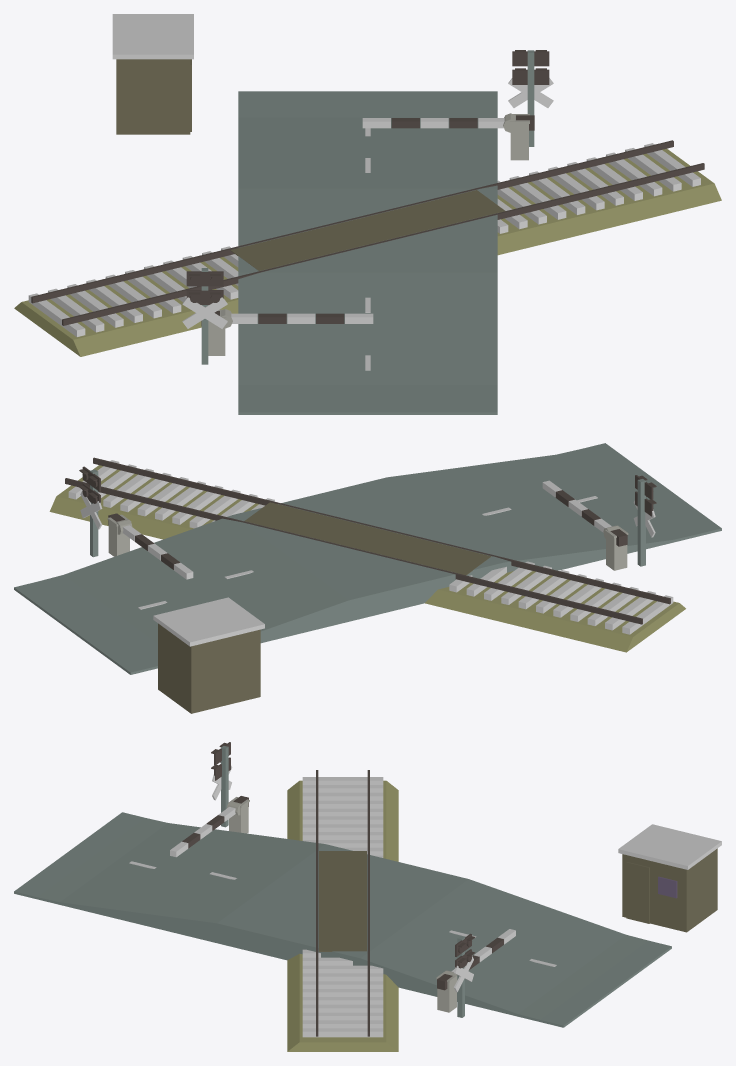
File: SM_PasoNivel_60E_v1_FocosDobles_LOD0.fbx
The picture shows the model from 3 angles, top to bottom: view 1: azimuth 30°, elevation 25°; view 2: azimuth 150°, elevation 25°; view 3: azimuth 270°, elevation 25°; orthographic projection. The views are drawn at different scales.
Visible parts, largest first — view 1: SM_paso_nivel_kit_v26_LOD0, Barrera_1, Barrera_2; view 2: SM_paso_nivel_kit_v26_LOD0, Barrera_1, Barrera_2; view 3: SM_paso_nivel_kit_v26_LOD0, Barrera_2, Barrera_1.
Boxes of the visible parts, box(x1,y1,x2,y2) form: SM_paso_nivel_kit_v26_LOD0: box(14, 14, 721, 414); Barrera_1: box(362, 113, 534, 132); Barrera_2: box(201, 309, 373, 328); SM_paso_nivel_kit_v26_LOD0: box(14, 443, 721, 713); Barrera_1: box(108, 513, 193, 579); Barrera_2: box(542, 480, 627, 546); SM_paso_nivel_kit_v26_LOD0: box(14, 742, 721, 1051); Barrera_2: box(170, 796, 248, 857); Barrera_1: box(437, 929, 515, 990).
Size of the model in its own units: 20 by 2.8 by 22.87.
